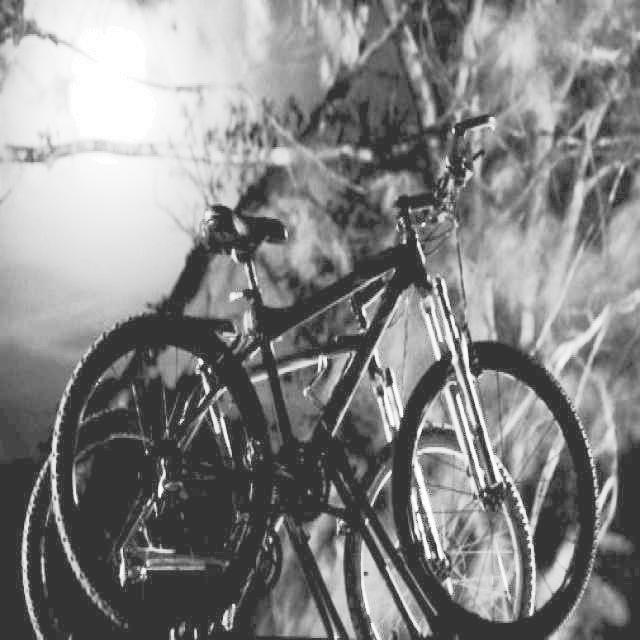Bicycle: (137, 223, 640, 640), (24, 238, 511, 640)
